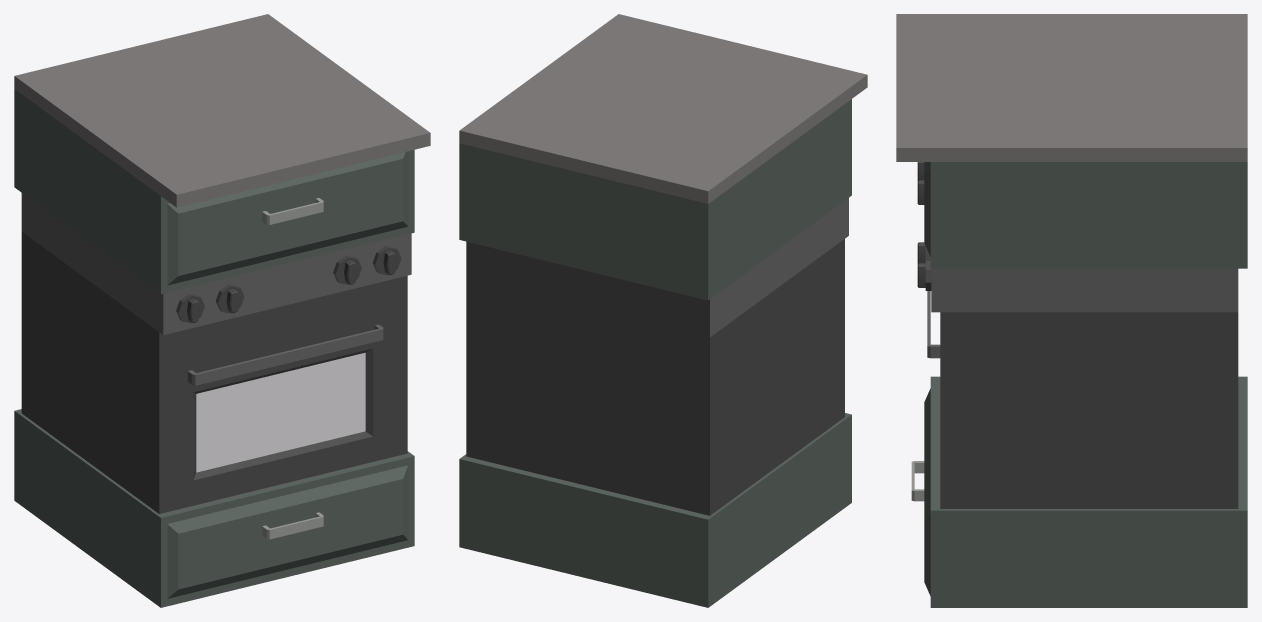
The model's file is quaternius-house-interior-kitchen-oven.glb.
3 views of the same model, side by side, from view 1: azimuth 30°, elevation 25°; view 2: azimuth 150°, elevation 25°; view 3: azimuth 270°, elevation 25° (orthographic). The views are drawn at different scales.
Visible parts, largest first — view 1: Kitchen_Oven; view 2: Kitchen_Oven; view 3: Kitchen_Oven.
Boxes of the visible parts, x1,y1,x2,y2 form: Kitchen_Oven: (14, 14, 430, 607); Kitchen_Oven: (459, 14, 867, 607); Kitchen_Oven: (896, 14, 1247, 607).
Size of the model in its own units: 1.01 by 1.62 by 1.12.
2 materials, 2 textured.
